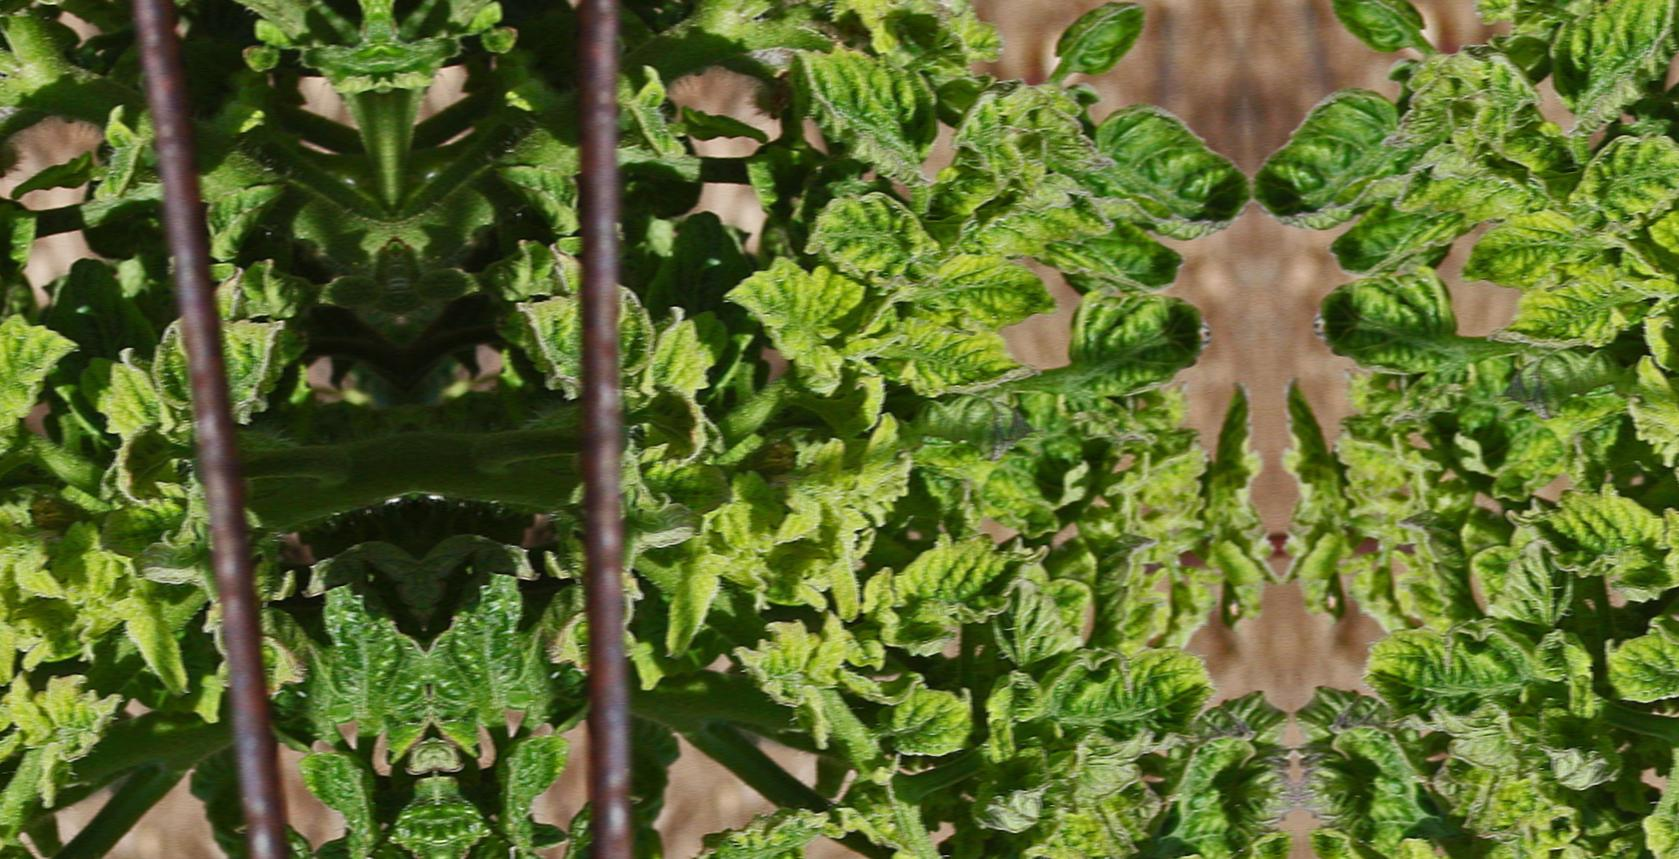Tomato leaf yellow virus: (1070, 72, 1257, 278), (1046, 263, 1243, 436), (419, 557, 556, 788), (774, 18, 942, 204), (826, 528, 1054, 658), (1022, 639, 1219, 766), (792, 173, 967, 313), (711, 247, 861, 392), (754, 415, 917, 547), (872, 243, 1083, 336), (848, 303, 1021, 413), (626, 310, 731, 468), (870, 678, 978, 787), (670, 794, 841, 859), (648, 538, 727, 674), (434, 756, 526, 859), (372, 0, 461, 87), (1107, 821, 1297, 859), (841, 828, 971, 859)
